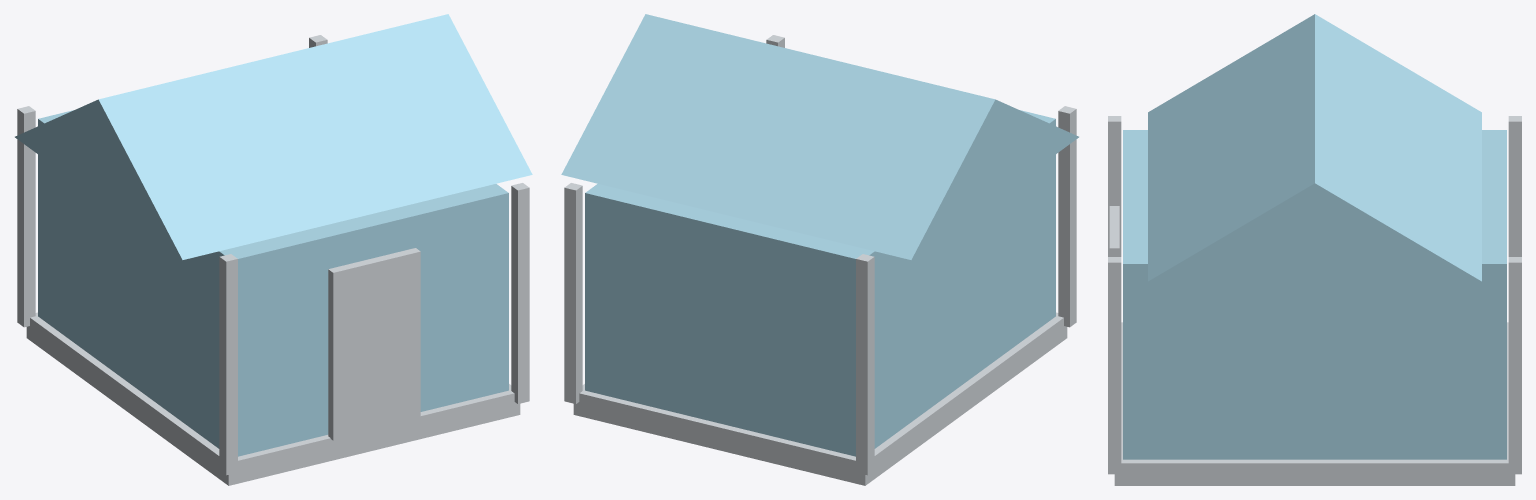
Rendered from hydro_small_greenhouse.glb.
3 renders of one model, left to right at view 1: azimuth 30°, elevation 25°; view 2: azimuth 150°, elevation 25°; view 3: azimuth 270°, elevation 25°, orthographic.
Visible parts, largest first — view 1: small_greenhouse; view 2: small_greenhouse; view 3: small_greenhouse.
Boxes of the visible parts, x1,y1,x2,y2 form: small_greenhouse: (15, 14, 532, 485); small_greenhouse: (561, 14, 1078, 485); small_greenhouse: (1108, 14, 1521, 485).
Size of the model in its own units: 2.4 by 2.09 by 2.48.
